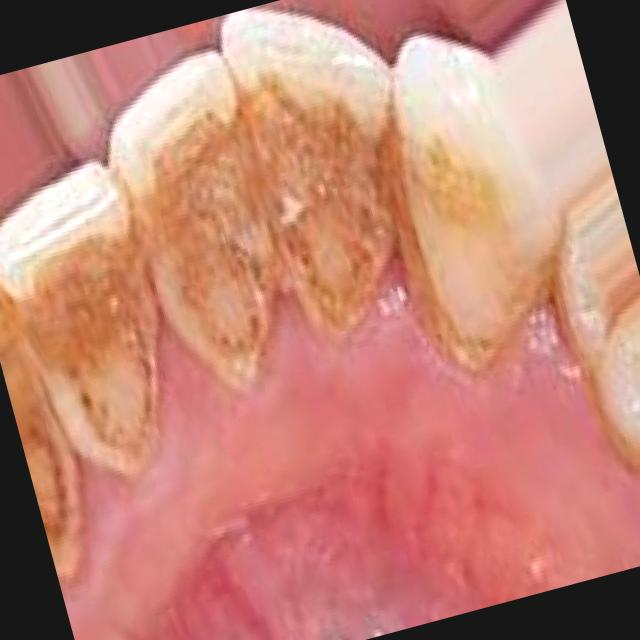calculus: (354, 44, 598, 427), (216, 0, 453, 375), (89, 23, 316, 414), (0, 142, 205, 517), (0, 257, 104, 594)
